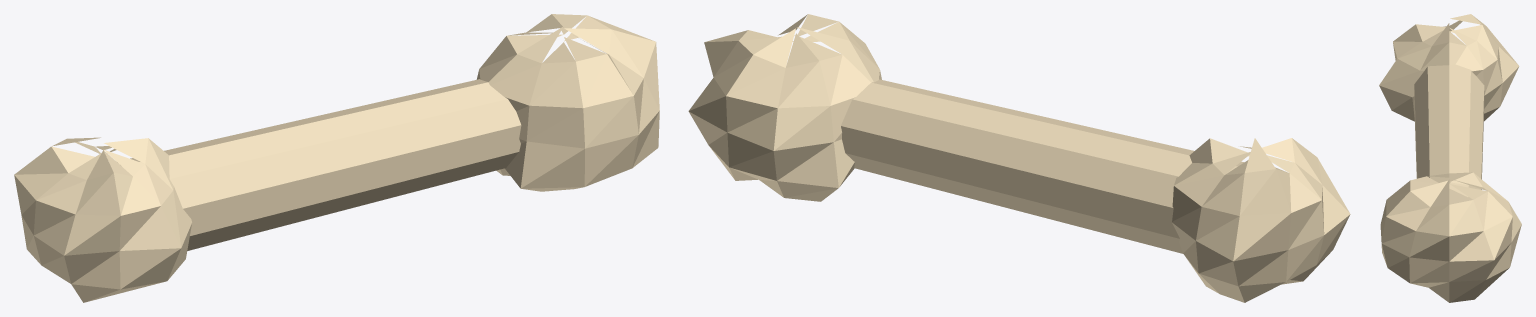
File: desert-canyons-and-oases-bleached-bone-55b4687c__21021.glb
3 views of the same model, side by side, from view 1: azimuth 30°, elevation 25°; view 2: azimuth 150°, elevation 25°; view 3: azimuth 270°, elevation 25° (orthographic). The views are drawn at different scales.
Parts seen in each view (by area): view 1: bleached-bone; view 2: bleached-bone; view 3: bleached-bone.
Boxes of the visible parts, x1,y1,x2,y2 form: bleached-bone: [14, 14, 659, 302]; bleached-bone: [688, 14, 1350, 302]; bleached-bone: [1379, 14, 1521, 302].
Bounding box in the file's own units: 0.9464 × 0.2343 × 0.2671.
